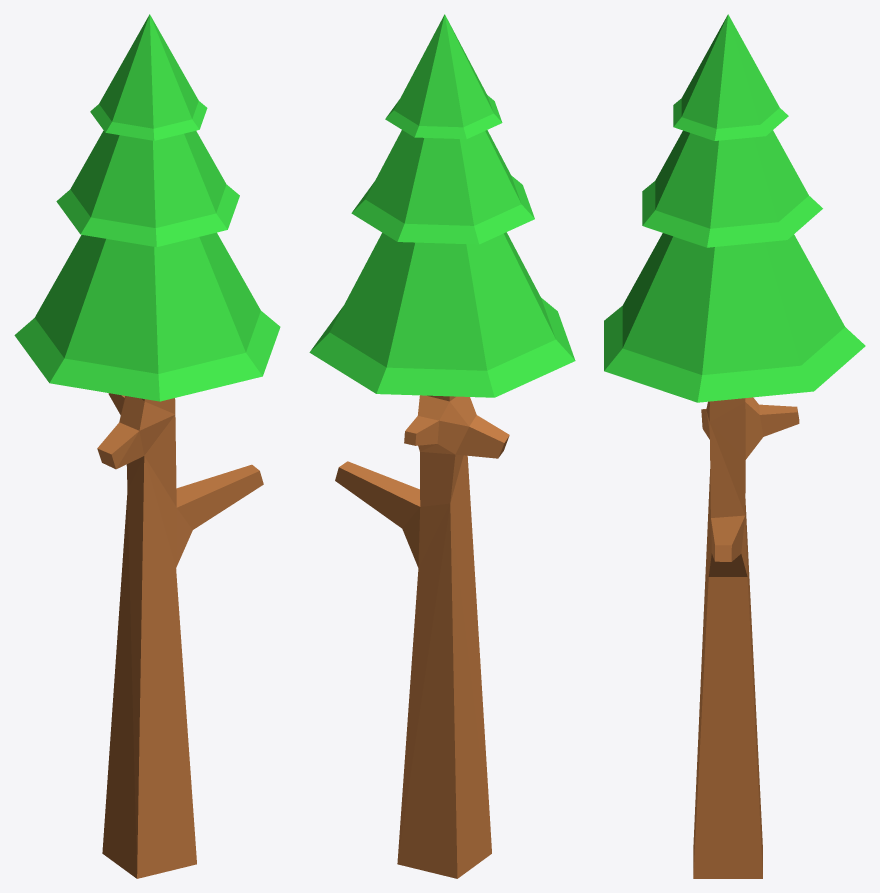
File: kesa_manty2.fbx
The picture shows the model from 3 angles, left to right: view 1: azimuth 30°, elevation 25°; view 2: azimuth 150°, elevation 25°; view 3: azimuth 270°, elevation 25°; orthographic projection.
Parts seen in each view (by area): view 1: Cone.002, Cube; view 2: Cone.002, Cube; view 3: Cone.002, Cube.
Part boxes in pixels (x1=…): Cone.002: x1=14, y1=14, x2=280, y2=401; Cube: x1=97, y1=393, x2=263, y2=878; Cone.002: x1=309, y1=14, x2=575, y2=397; Cube: x1=335, y1=395, x2=509, y2=878; Cone.002: x1=604, y1=14, x2=865, y2=402; Cube: x1=693, y1=397, x2=799, y2=878.
Bounding box in the file's own units: 441 × 1540 × 430.
